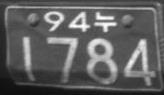1: (14, 36, 41, 82)
4: (123, 38, 156, 86), (68, 10, 90, 32)
7: (46, 35, 78, 83)
8: (85, 36, 118, 86)
9: (43, 10, 64, 32)
누: (94, 10, 117, 32)
